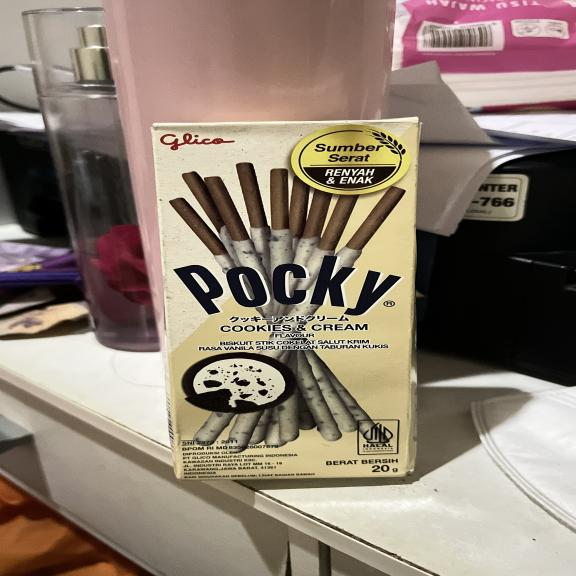Kertas: (152, 119, 424, 481)
